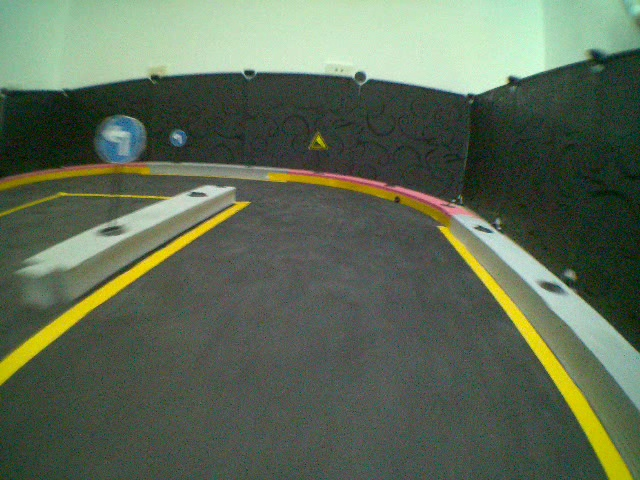fast: (307, 130, 326, 151)
turn: (93, 112, 146, 166), (170, 127, 188, 149)
